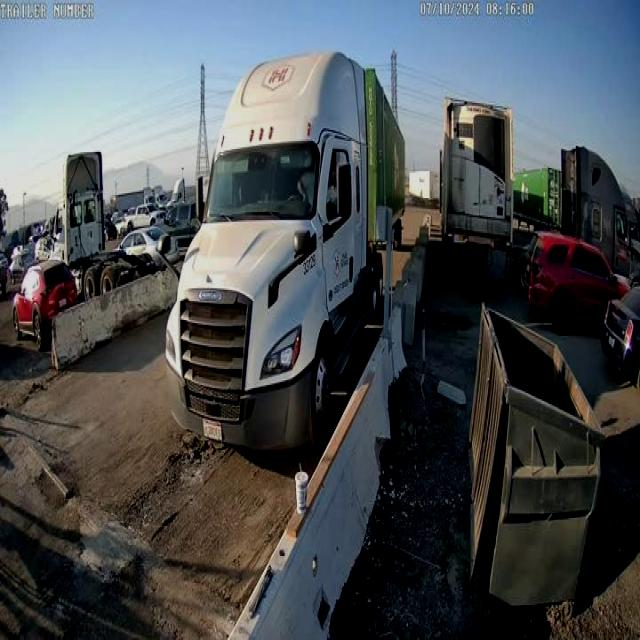CONTAINER: (344, 49, 406, 253)
